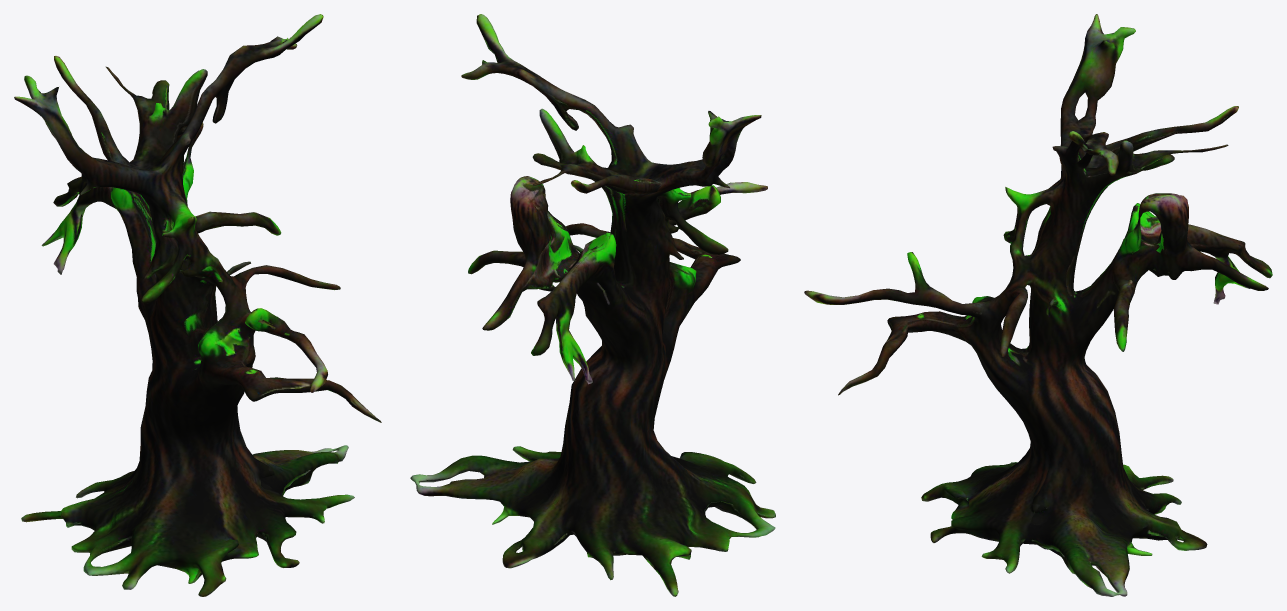
Rendered from 7cde9e91bc04_spooky_terrifying_t.obj.
3 renders of one model, left to right at view 1: azimuth 30°, elevation 25°; view 2: azimuth 150°, elevation 25°; view 3: azimuth 270°, elevation 25°, orthographic. The views are drawn at different scales.
Parts seen in each view (by area): view 1: mesh; view 2: mesh; view 3: mesh.
Boxes of the visible parts, x1=… form: mesh: x1=14, y1=14, x2=381, y2=596; mesh: x1=410, y1=14, x2=775, y2=596; mesh: x1=804, y1=14, x2=1272, y2=596.
Size of the model in its own units: 0.7351 by 0.9937 by 0.9071.
Materials: 1 (1 with a texture image).
